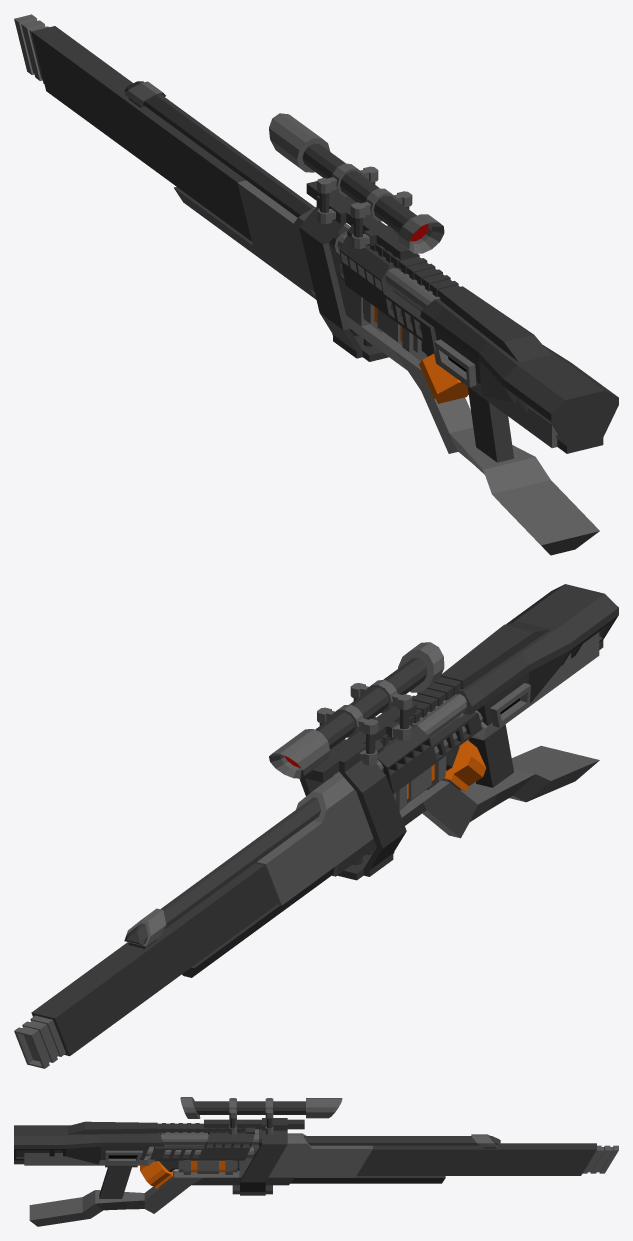
File: Shotgun_and_Sniper.fbx
3 renders of one model, top to bottom at view 1: azimuth 30°, elevation 25°; view 2: azimuth 150°, elevation 25°; view 3: azimuth 270°, elevation 25°, orthographic. The views are drawn at different scales.
Visible parts, largest first — view 1: LeftSniper, Shotgun, RightSniper; view 2: LeftSniper, Shotgun, RightSniper; view 3: RightSniper, Shotgun, LeftSniper.
Boxes of the visible parts, x1=… form: LeftSniper: x1=14, y1=14, x2=599, y2=553; Shotgun: x1=329, y1=224, x2=618, y2=462; RightSniper: x1=17, y1=31, x2=599, y2=555; LeftSniper: x1=14, y1=632, x2=599, y2=1068; Shotgun: x1=331, y1=584, x2=618, y2=794; RightSniper: x1=14, y1=632, x2=599, y2=1068; RightSniper: x1=24, y1=1097, x2=618, y2=1226; Shotgun: x1=14, y1=1121, x2=261, y2=1198; LeftSniper: x1=30, y1=1097, x2=618, y2=1224.
Size of the model in its own units: 173 by 569 by 2487.
